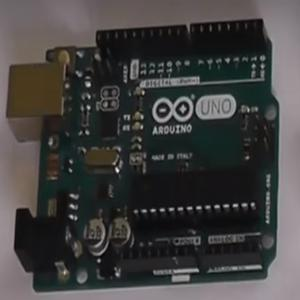duino: (10, 17, 281, 280)
